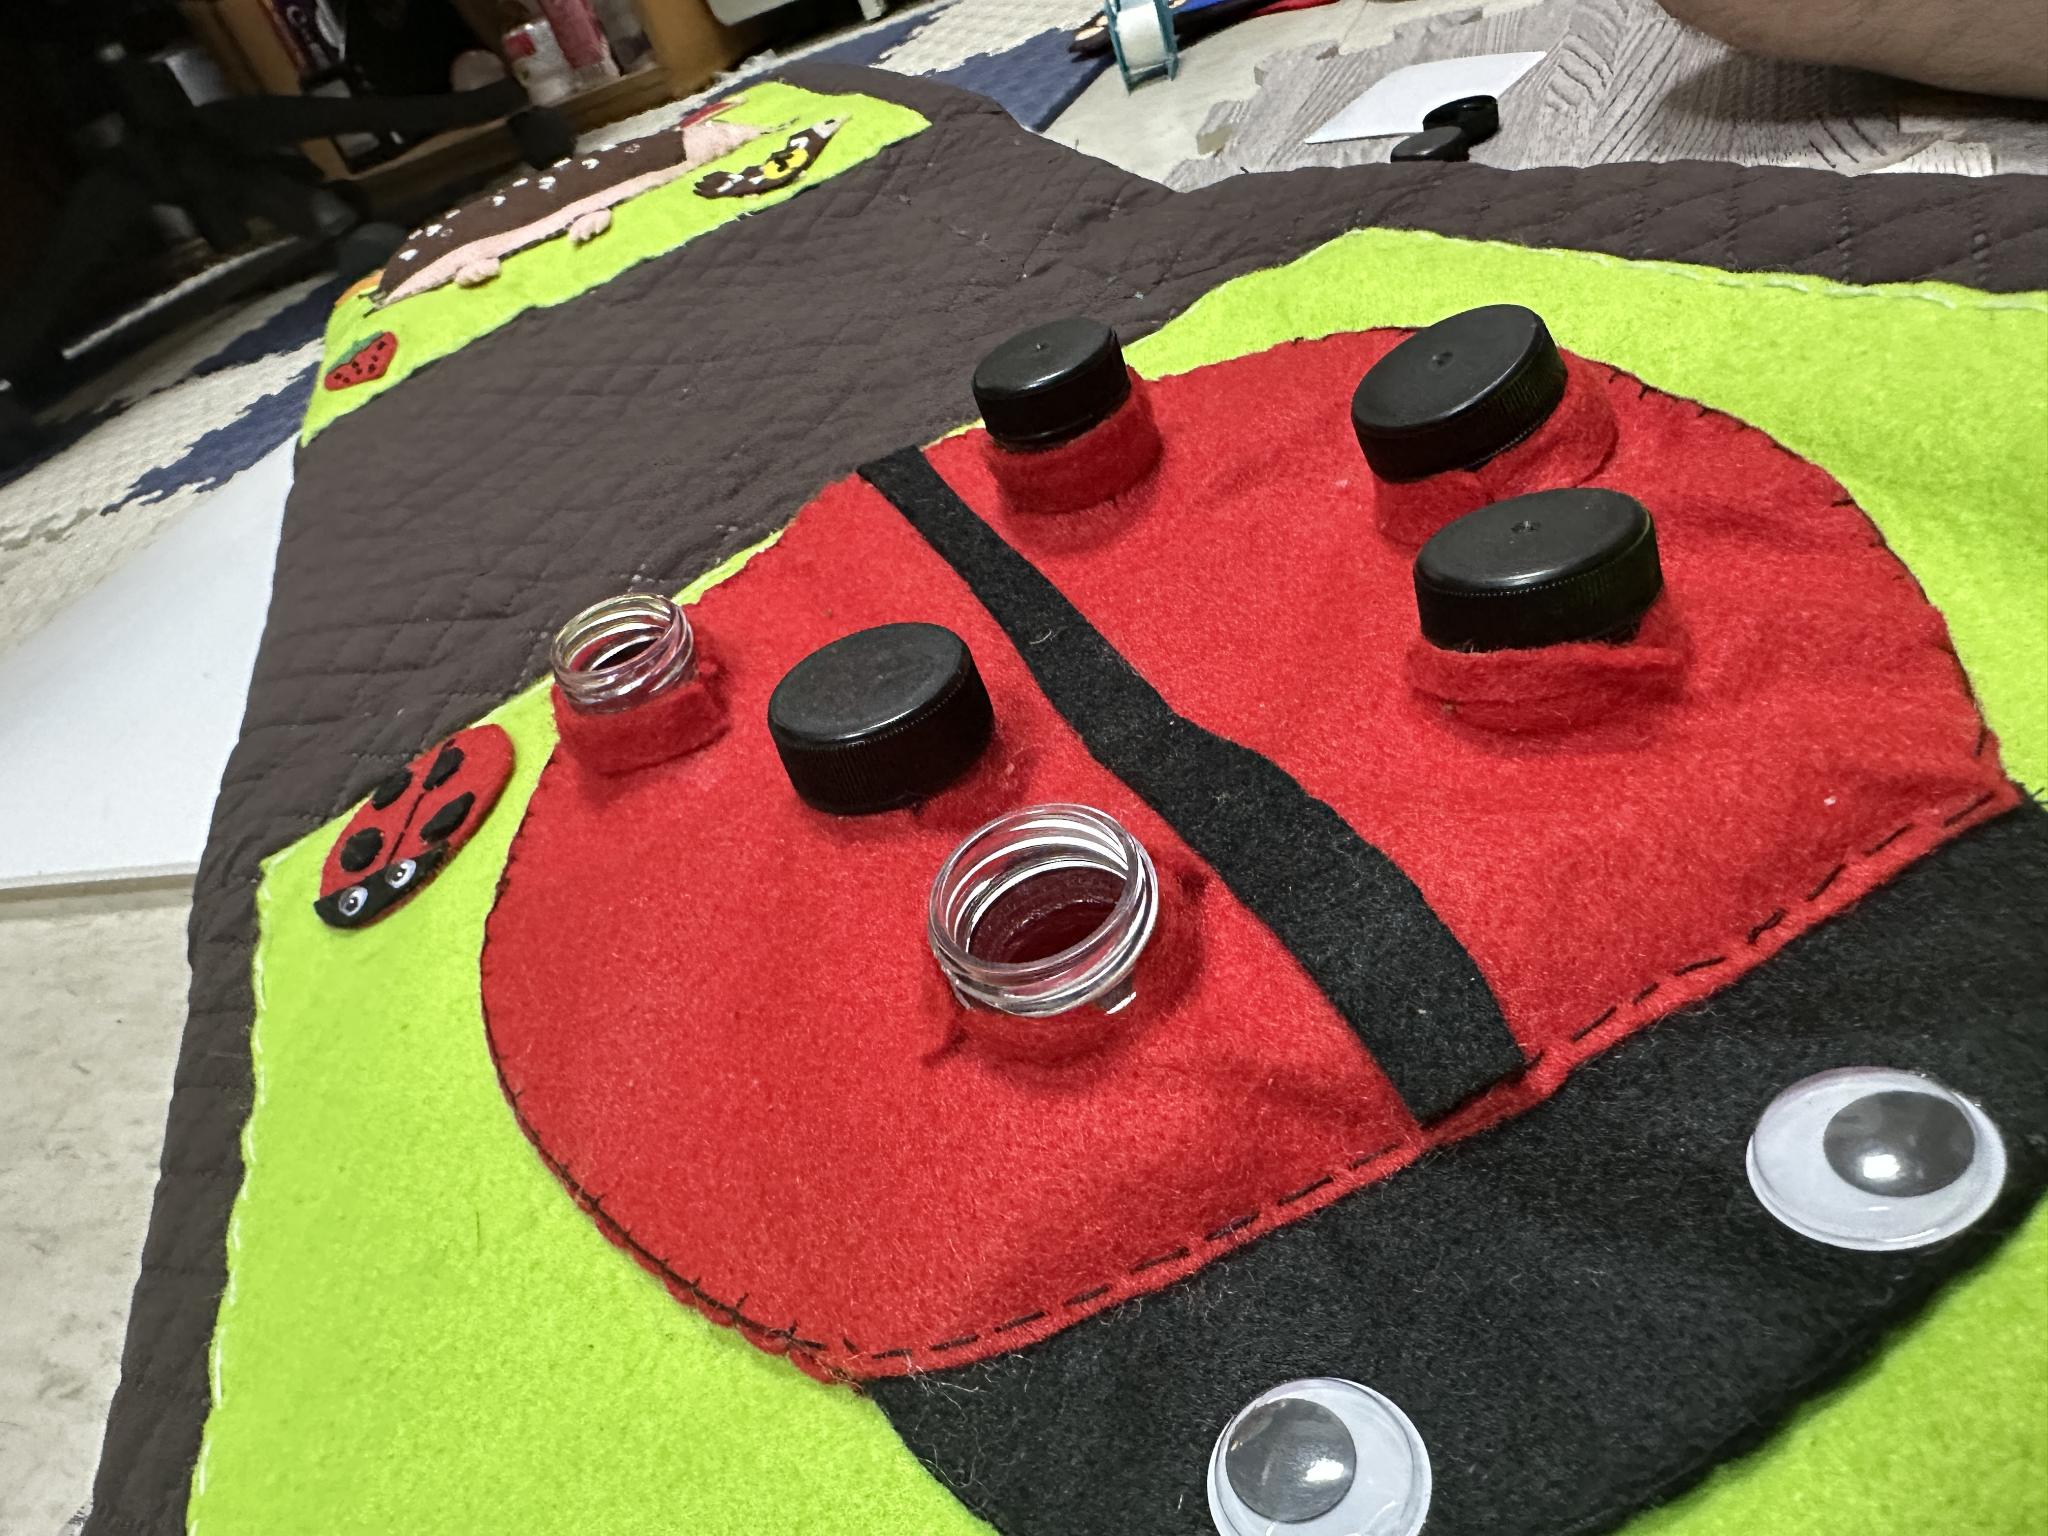cap_ok: (1387, 476, 1714, 728), (739, 618, 1019, 823), (1330, 287, 1630, 478), (959, 305, 1197, 515)
